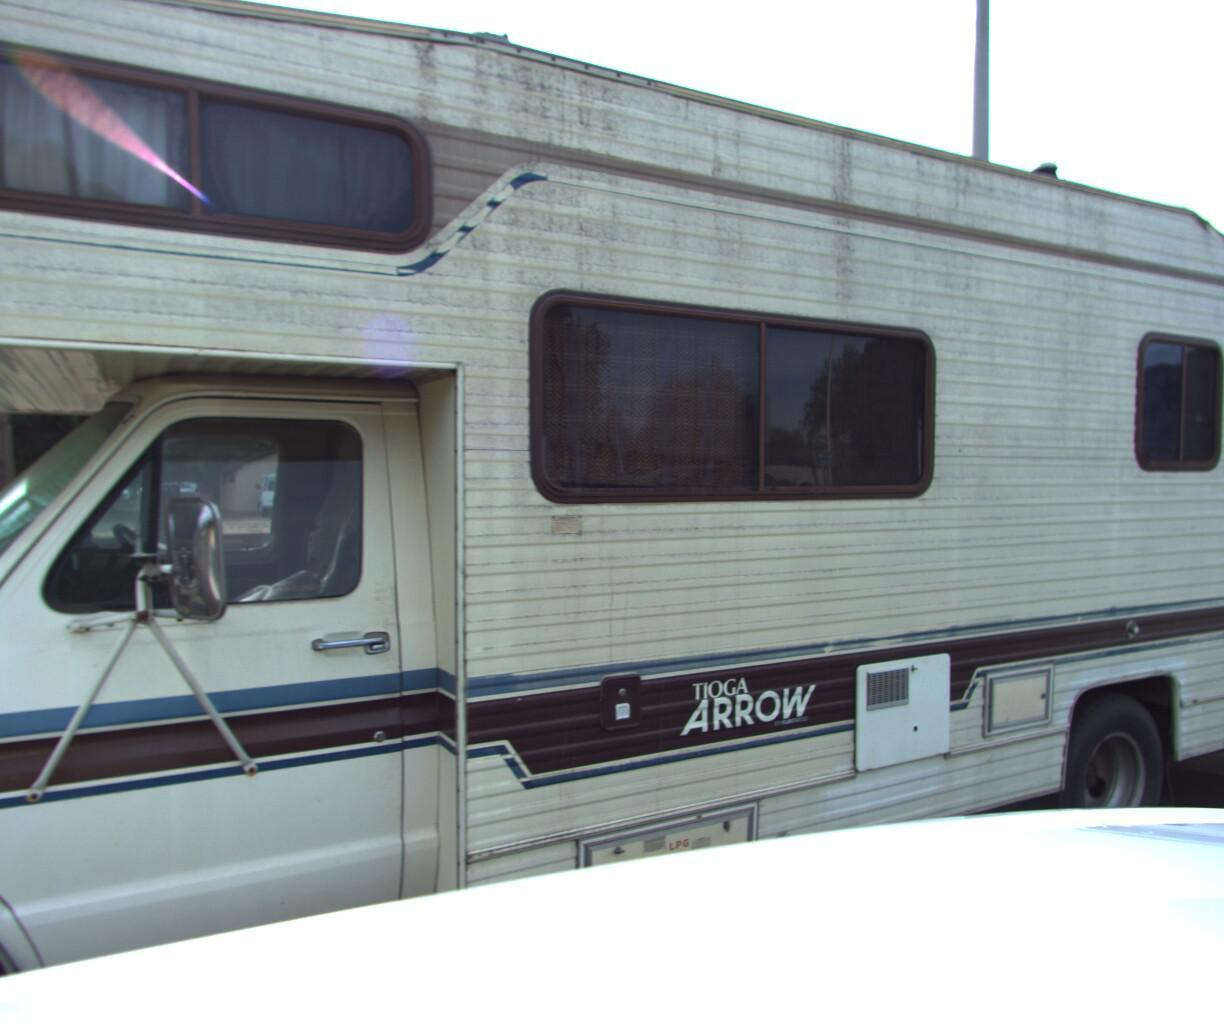car: (1206, 466, 1224, 714)
other_vehicle: (0, 0, 1224, 1024)
